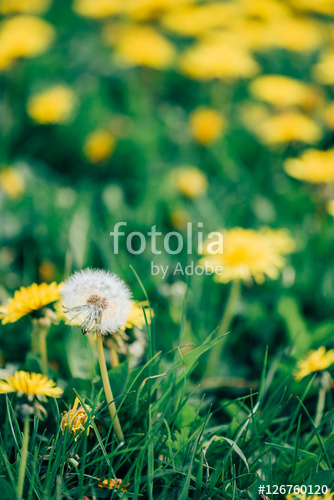dandelion: (199, 233, 274, 284), (7, 367, 65, 407), (6, 285, 55, 322), (294, 343, 331, 378)
